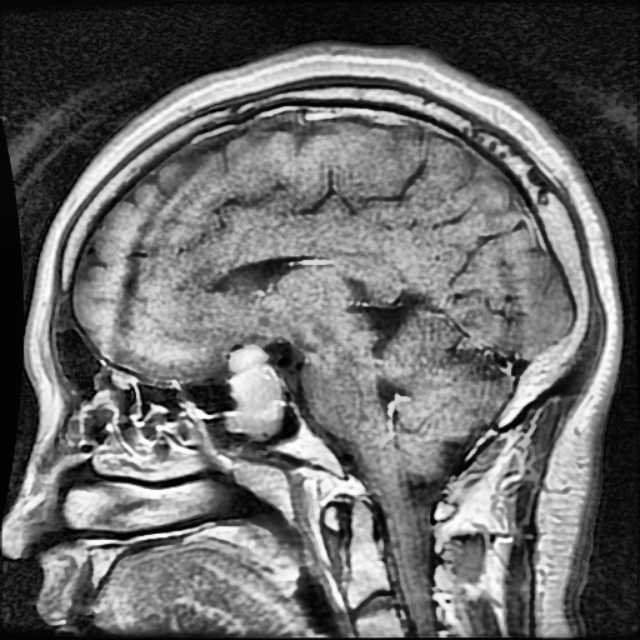Pituitary: (225, 347, 284, 433)
